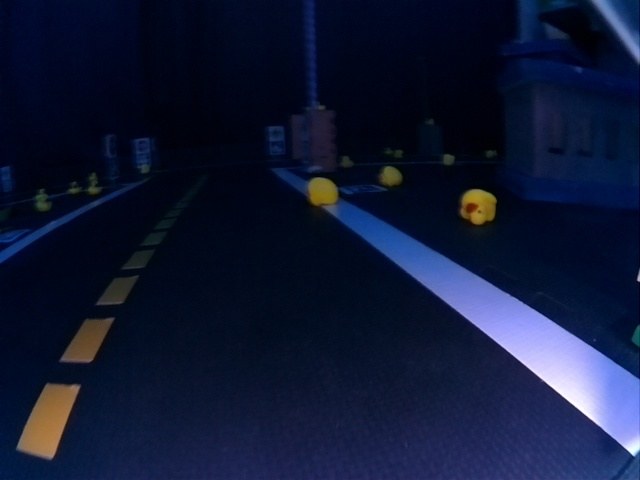Duckie: (462, 190, 497, 223), (308, 179, 338, 206), (379, 170, 401, 185), (37, 196, 50, 211), (69, 181, 79, 194), (341, 156, 352, 167), (89, 184, 101, 194), (386, 146, 394, 155), (394, 150, 403, 157), (140, 164, 149, 171), (89, 173, 94, 182)
QR code: (271, 140, 283, 154), (137, 153, 149, 164)
Stop sign: (137, 140, 149, 151)
